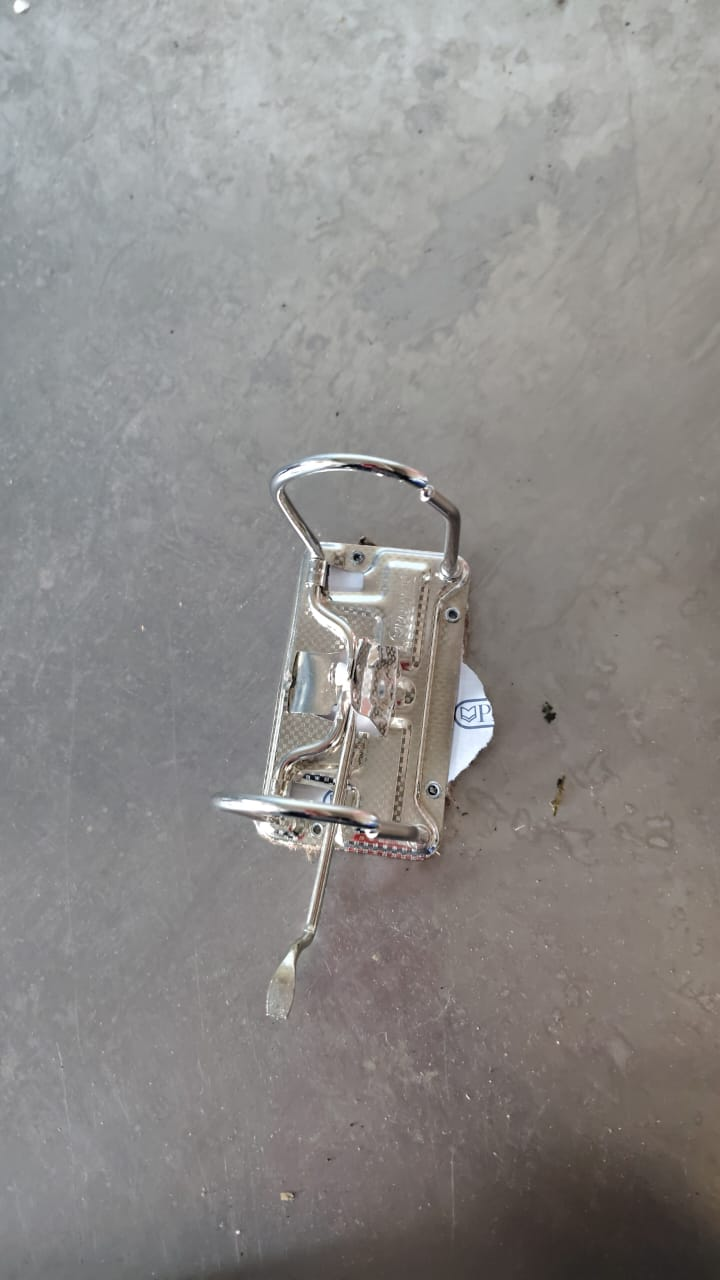Metal: (214, 452, 462, 1019)
